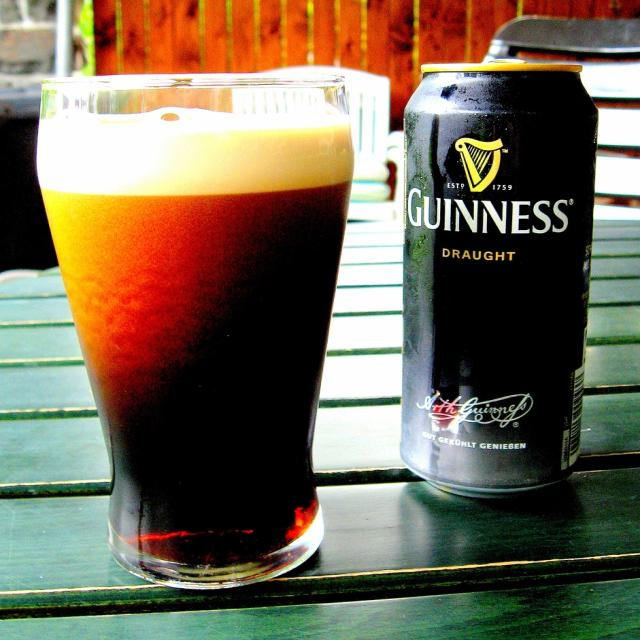guiness: (406, 135, 574, 240)
